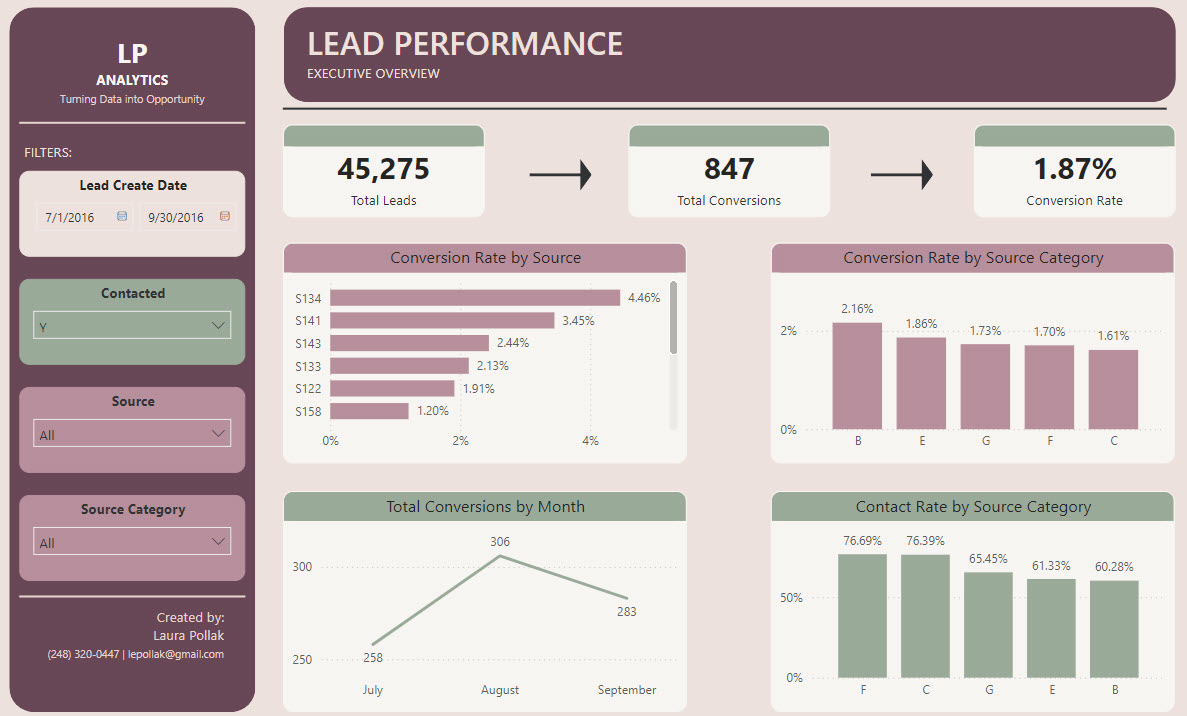

This screenshot's page, from the dashboard's own definition file:
{"tool":"powerbi","page":{"name":"Page 1","canvas":[1280,720],"ordinal":0},"visuals":[{"type":"shape","box":[290,15,883,94],"z":0},{"type":"shape","box":[18,15,244,698],"z":1000},{"type":"card","title":" ","fields":{"Values":["Leads.Total Leads"]},"box":[289,131.1,200,92],"z":2000},{"type":"card","title":" ","fields":{"Values":["Leads.Total Conversions"]},"box":[631,131.1,200,92],"z":3000},{"type":"card","title":" ","fields":{"Values":["Leads.Conversion Rate"]},"box":[973,131.1,200,92],"z":4000},{"type":"clusteredBarChart","fields":{"Category":["Leads.Source"],"Y":["Leads.Conversion Rate"]},"box":[289,248,400,219],"z":5000},{"type":"lineChart","fields":{"Category":["Leads.Lead_Creation_Date.Variation.Date Hierarchy.Year","Leads.Lead_Creation_Date.Variation.Date Hierarchy.Month"],"Y":["Leads.Total Conversions"]},"box":[289,494,400,219],"z":6000},{"type":"slicer","title":"Contacted","fields":{"Values":["Leads.Contacted"]},"box":[28,284,224,85],"z":7000},{"type":"clusteredColumnChart","title":"Conversion Rate by Source Category","fields":{"Category":["Leads.Source_Category"],"Y":["Leads.Conversion Rate"]},"box":[772,248,400,219],"z":8000},{"type":"textbox","box":[308,23,332,76],"z":9000},{"type":"slicer","title":"Source","fields":{"Values":["Leads.Source"]},"box":[28,391,224,85],"z":10000},{"type":"shape","box":[290,100,882,31],"z":11000},{"type":"shape","box":[533,165,62,32],"z":12000},{"type":"shape","box":[871,165,62,32],"z":13000},{"type":"slicer","title":"Source Category","fields":{"Values":["Leads.Source_Category"]},"box":[28,498,224,85],"z":14000},{"type":"slicer","title":"Lead Create Date","fields":{"Values":["Leads.Lead_Creation_Date"]},"box":[28,177,224,85],"z":15000},{"type":"clusteredColumnChart","title":"Contact Rate by Source Category","fields":{"Category":["Leads.Source_Category"],"Y":["Leads.Contact Rate"]},"box":[772,494,400,219],"z":15001},{"type":"textbox","box":[44,37,192,93],"z":15002},{"type":"shape","box":[28,114,224,31],"z":15003},{"type":"textbox","box":[28,143.7,69,31],"z":15004},{"type":"shape","box":[28,583,224,31],"z":15005},{"type":"textbox","box":[44,604,192,100],"z":15006}]}

Visuals, with their boxes on the page's 1280x720 design canvas (x1, y1, x2, y2). These are canvas units, not pixel positions in the 1187x716 screenshot, which may show the page scaled, cropped or inside an application window:
shape: [290, 15, 1173, 109]
shape: [18, 15, 262, 713]
" " card: [289, 131, 489, 223]
" " card: [631, 131, 831, 223]
" " card: [973, 131, 1173, 223]
clusteredBarChart - Leads.Source x Leads.Conversion Rate: [289, 248, 689, 467]
lineChart - Leads.Lead_Creation_Date.Variation.Date Hierarchy.Year x Leads.Lead_Creation_Date.Variation.Date Hierarchy.Month: [289, 494, 689, 713]
"Contacted" slicer: [28, 284, 252, 369]
"Conversion Rate by Source Category" clusteredColumnChart: [772, 248, 1172, 467]
textbox: [308, 23, 640, 99]
"Source" slicer: [28, 391, 252, 476]
shape: [290, 100, 1172, 131]
shape: [533, 165, 595, 197]
shape: [871, 165, 933, 197]
"Source Category" slicer: [28, 498, 252, 583]
"Lead Create Date" slicer: [28, 177, 252, 262]
"Contact Rate by Source Category" clusteredColumnChart: [772, 494, 1172, 713]
textbox: [44, 37, 236, 130]
shape: [28, 114, 252, 145]
textbox: [28, 144, 97, 175]
shape: [28, 583, 252, 614]
textbox: [44, 604, 236, 704]
